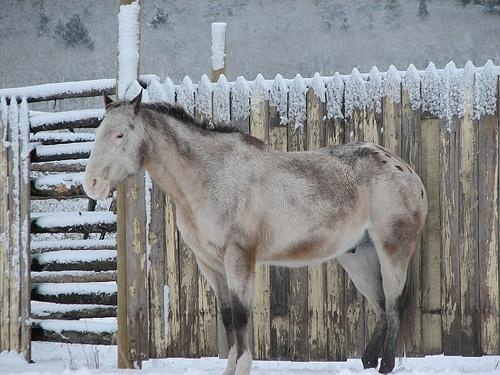horse: (82, 89, 433, 375)
